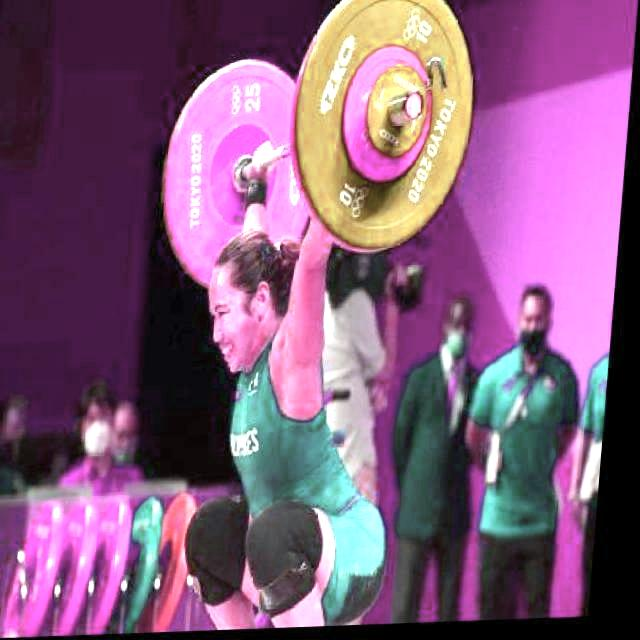barbell: (285, 1, 494, 260)
